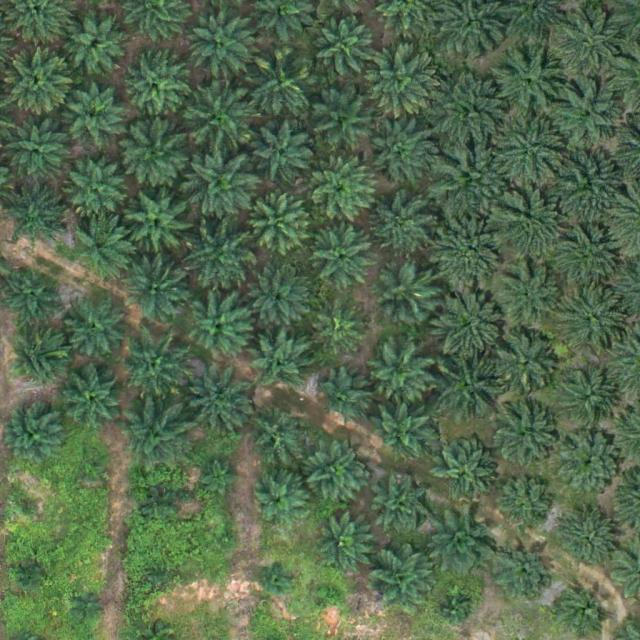Grass: (202, 455, 241, 495), (13, 562, 44, 594), (75, 590, 106, 622), (146, 492, 177, 523), (263, 563, 294, 594), (319, 584, 343, 608), (150, 564, 173, 588), (216, 529, 239, 553)
Healthy: (183, 148, 261, 227), (364, 38, 442, 117), (361, 111, 439, 190), (434, 74, 512, 153), (434, 144, 512, 223), (433, 212, 511, 291), (489, 190, 567, 269), (494, 114, 572, 192), (429, 285, 507, 363), (119, 49, 190, 120), (5, 42, 75, 113), (121, 120, 192, 190), (186, 7, 256, 78), (185, 84, 255, 155), (308, 158, 378, 229), (185, 367, 255, 438), (122, 332, 192, 403), (492, 49, 562, 120), (554, 78, 625, 148), (435, 354, 505, 425), (429, 510, 500, 580), (184, 224, 254, 294), (119, 400, 189, 470), (555, 8, 625, 78), (314, 18, 377, 81), (305, 443, 368, 506), (245, 404, 308, 467), (434, 442, 497, 505), (564, 290, 627, 353), (557, 511, 620, 574), (9, 121, 71, 184), (66, 12, 128, 75), (65, 89, 127, 152), (254, 119, 317, 181), (310, 90, 373, 152), (371, 197, 433, 260), (371, 400, 433, 463), (249, 194, 311, 257), (250, 271, 312, 334), (250, 329, 312, 392), (188, 296, 250, 359), (128, 193, 190, 256), (124, 254, 186, 317), (62, 368, 124, 431), (66, 298, 128, 361), (72, 214, 134, 277), (64, 159, 126, 222), (4, 184, 66, 247), (4, 267, 66, 330), (6, 327, 68, 390), (495, 409, 557, 472), (494, 334, 556, 397), (497, 264, 559, 327), (559, 152, 621, 215), (552, 223, 615, 285), (560, 433, 622, 496), (371, 551, 433, 614), (310, 513, 373, 575), (376, 265, 438, 327), (369, 344, 431, 406), (313, 229, 375, 291), (254, 475, 309, 531), (318, 371, 373, 426), (314, 304, 369, 359), (373, 478, 428, 533), (562, 374, 617, 429), (497, 545, 552, 600), (497, 478, 551, 533)
Small: (439, 593, 470, 625), (77, 455, 108, 486), (12, 496, 43, 527)
Yellow: (246, 53, 316, 124)
